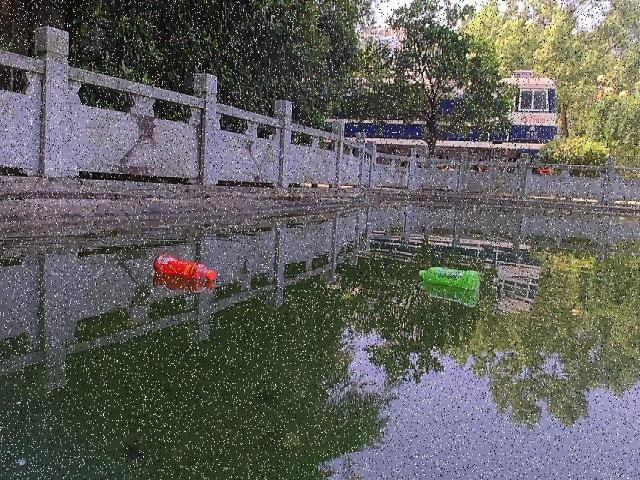Bottle: (147, 250, 225, 289), (414, 263, 484, 299)
